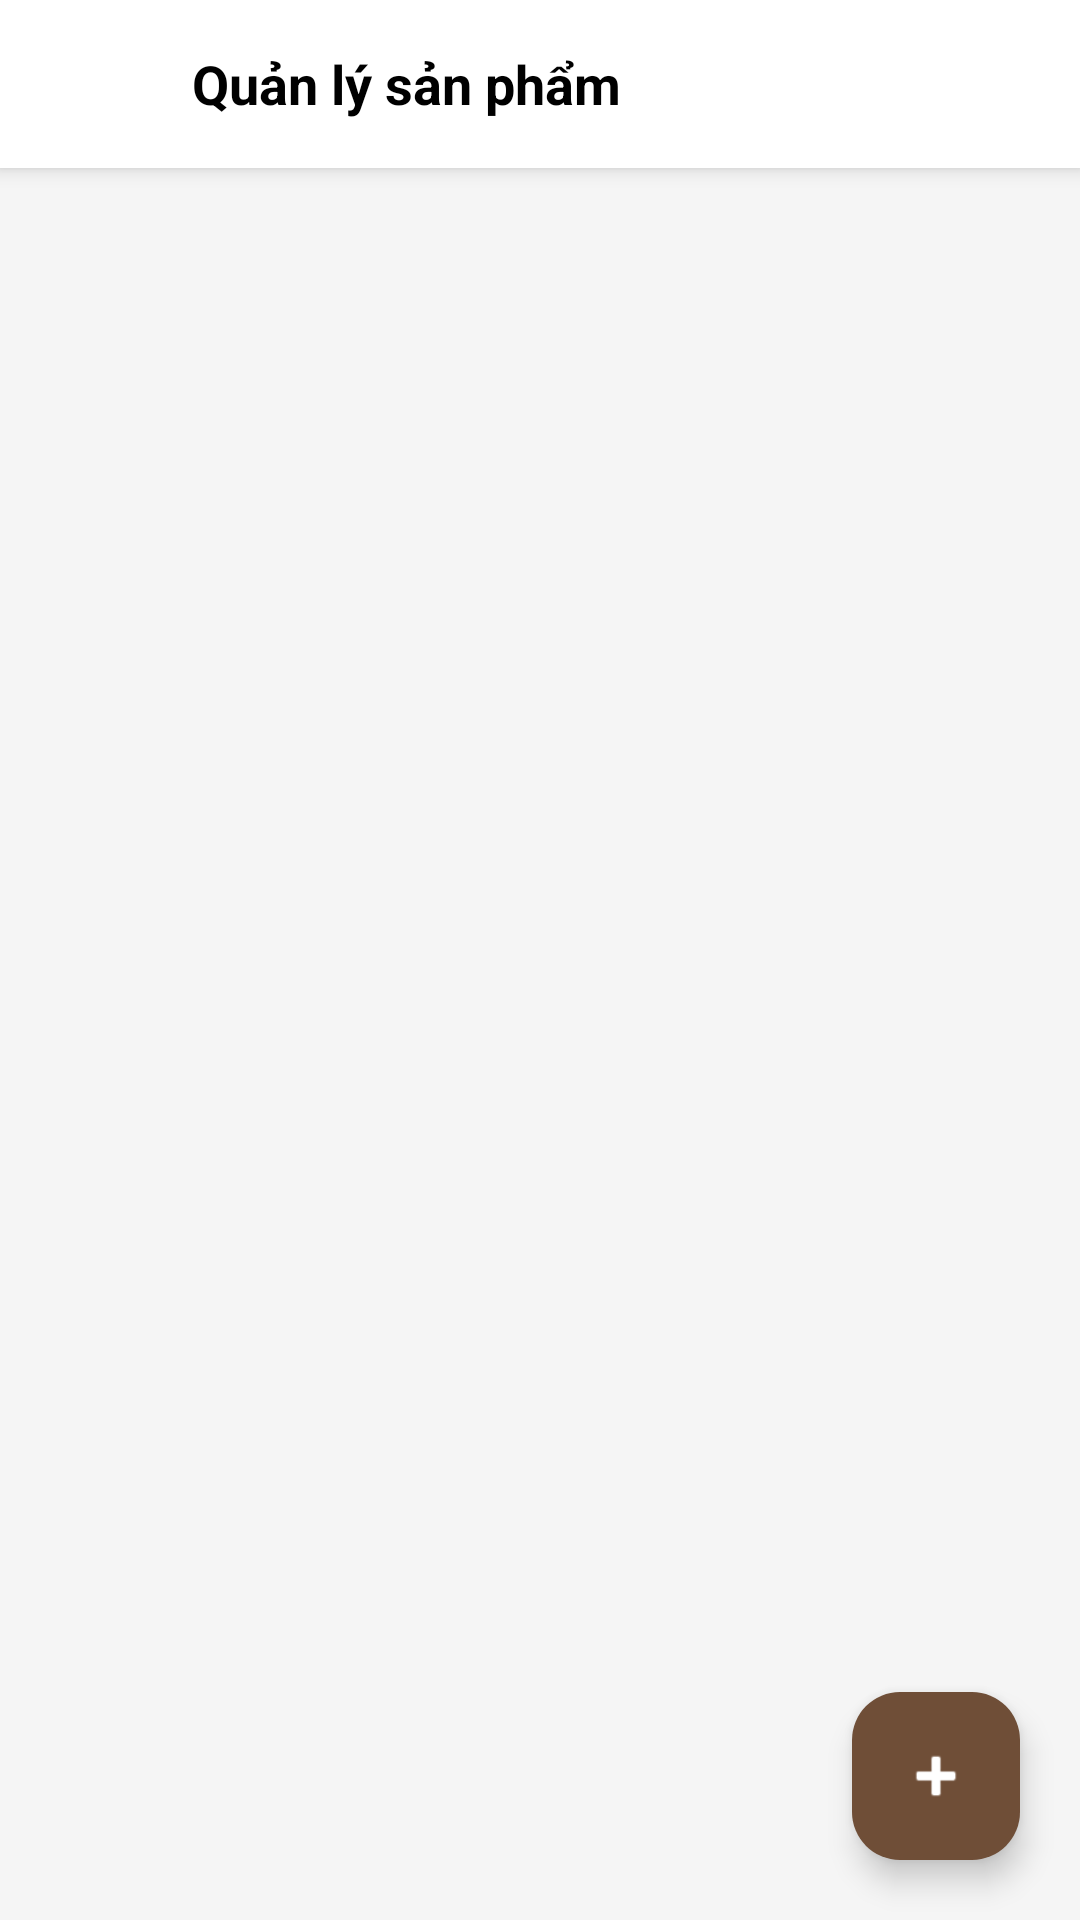

Locate icon controls on the screen. Image size 1080×1920, boxes as (x1, y1, x2, y2).
add: (852, 1692, 1020, 1860)
